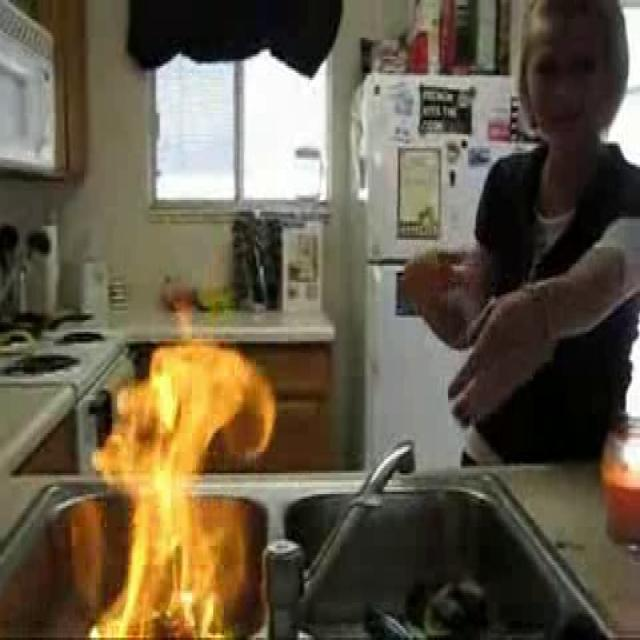fire: (108, 330, 265, 624)
